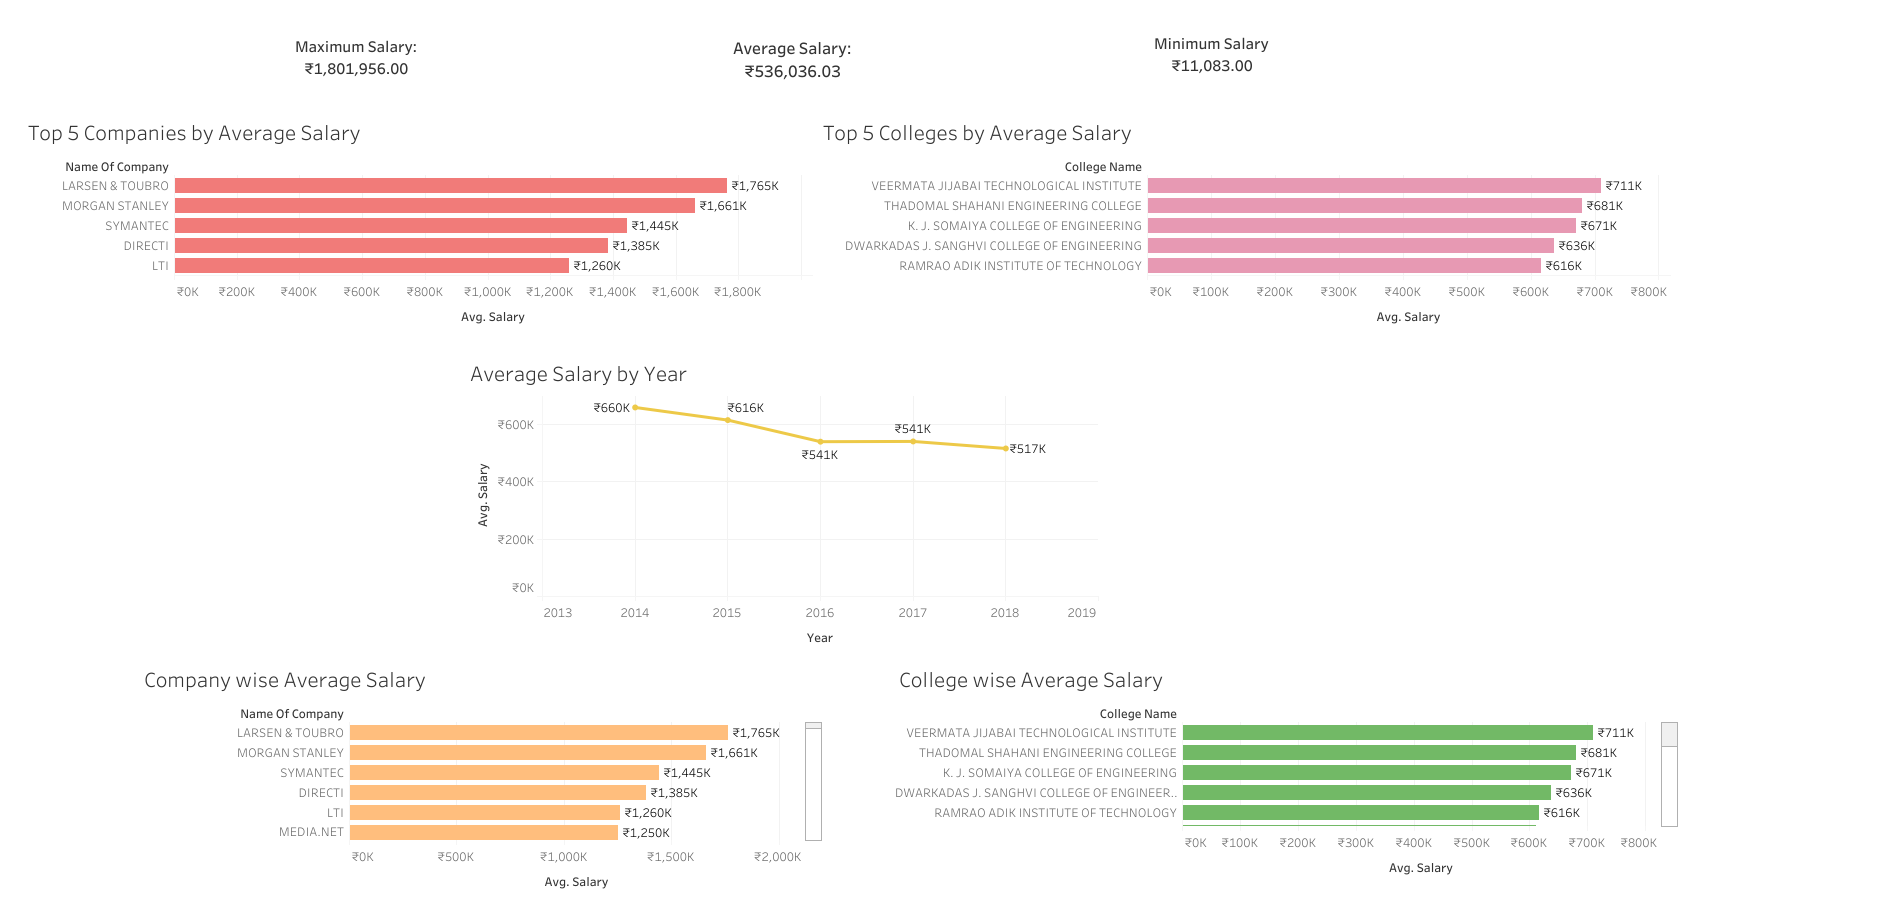

Layout of this report page (visuals, bound fields, positions):
{"tool":"tableau","page":{"name":"Dashboard 1","canvas":[1900,900],"ordinal":0},"visuals":[{"type":"worksheet","title":"Sheet 1","mark":"Automatic","box":[723.1,21,271.3,92]},{"type":"worksheet","title":"Sheet 9","mark":"Automatic","box":[1142.1,32,250.2,89]},{"type":"worksheet","title":"Sheet 8","mark":"Automatic","box":[287.1,35,337.8,68]},{"type":"worksheet","title":"Sheet 5","mark":"Automatic","rows":["name of company"],"cols":["Salary"],"box":[24.3,112,787.4,242]},{"type":"worksheet","title":"Sheet 6","mark":"Automatic","rows":["college name"],"cols":["Salary"],"box":[819.1,112,850.8,226]},{"type":"worksheet","title":"Sheet 7","mark":"Automatic","rows":["Salary"],"cols":["year"],"box":[465.5,353,632.3,300]},{"type":"worksheet","title":"Sheet 2","mark":"Automatic","rows":["name of company"],"cols":["Salary"],"box":[140,659,682,238]},{"type":"worksheet","title":"Sheet 3","mark":"Automatic","rows":["college name"],"cols":["Salary"],"box":[895,659,783,224]}]}

Visuals, with their boxes in screenshot pixels (x1, y1, x2, y2), scaled from the page's 1900x900 canvas onto the 1900x900 screenshot:
"Sheet 1" worksheet: x1=723 y1=21 x2=994 y2=113
"Sheet 9" worksheet: x1=1142 y1=32 x2=1392 y2=121
"Sheet 8" worksheet: x1=287 y1=35 x2=625 y2=103
"Sheet 5" worksheet: x1=24 y1=112 x2=812 y2=354
"Sheet 6" worksheet: x1=819 y1=112 x2=1670 y2=338
"Sheet 7" worksheet: x1=466 y1=353 x2=1098 y2=653
"Sheet 2" worksheet: x1=140 y1=659 x2=822 y2=897
"Sheet 3" worksheet: x1=895 y1=659 x2=1678 y2=883
